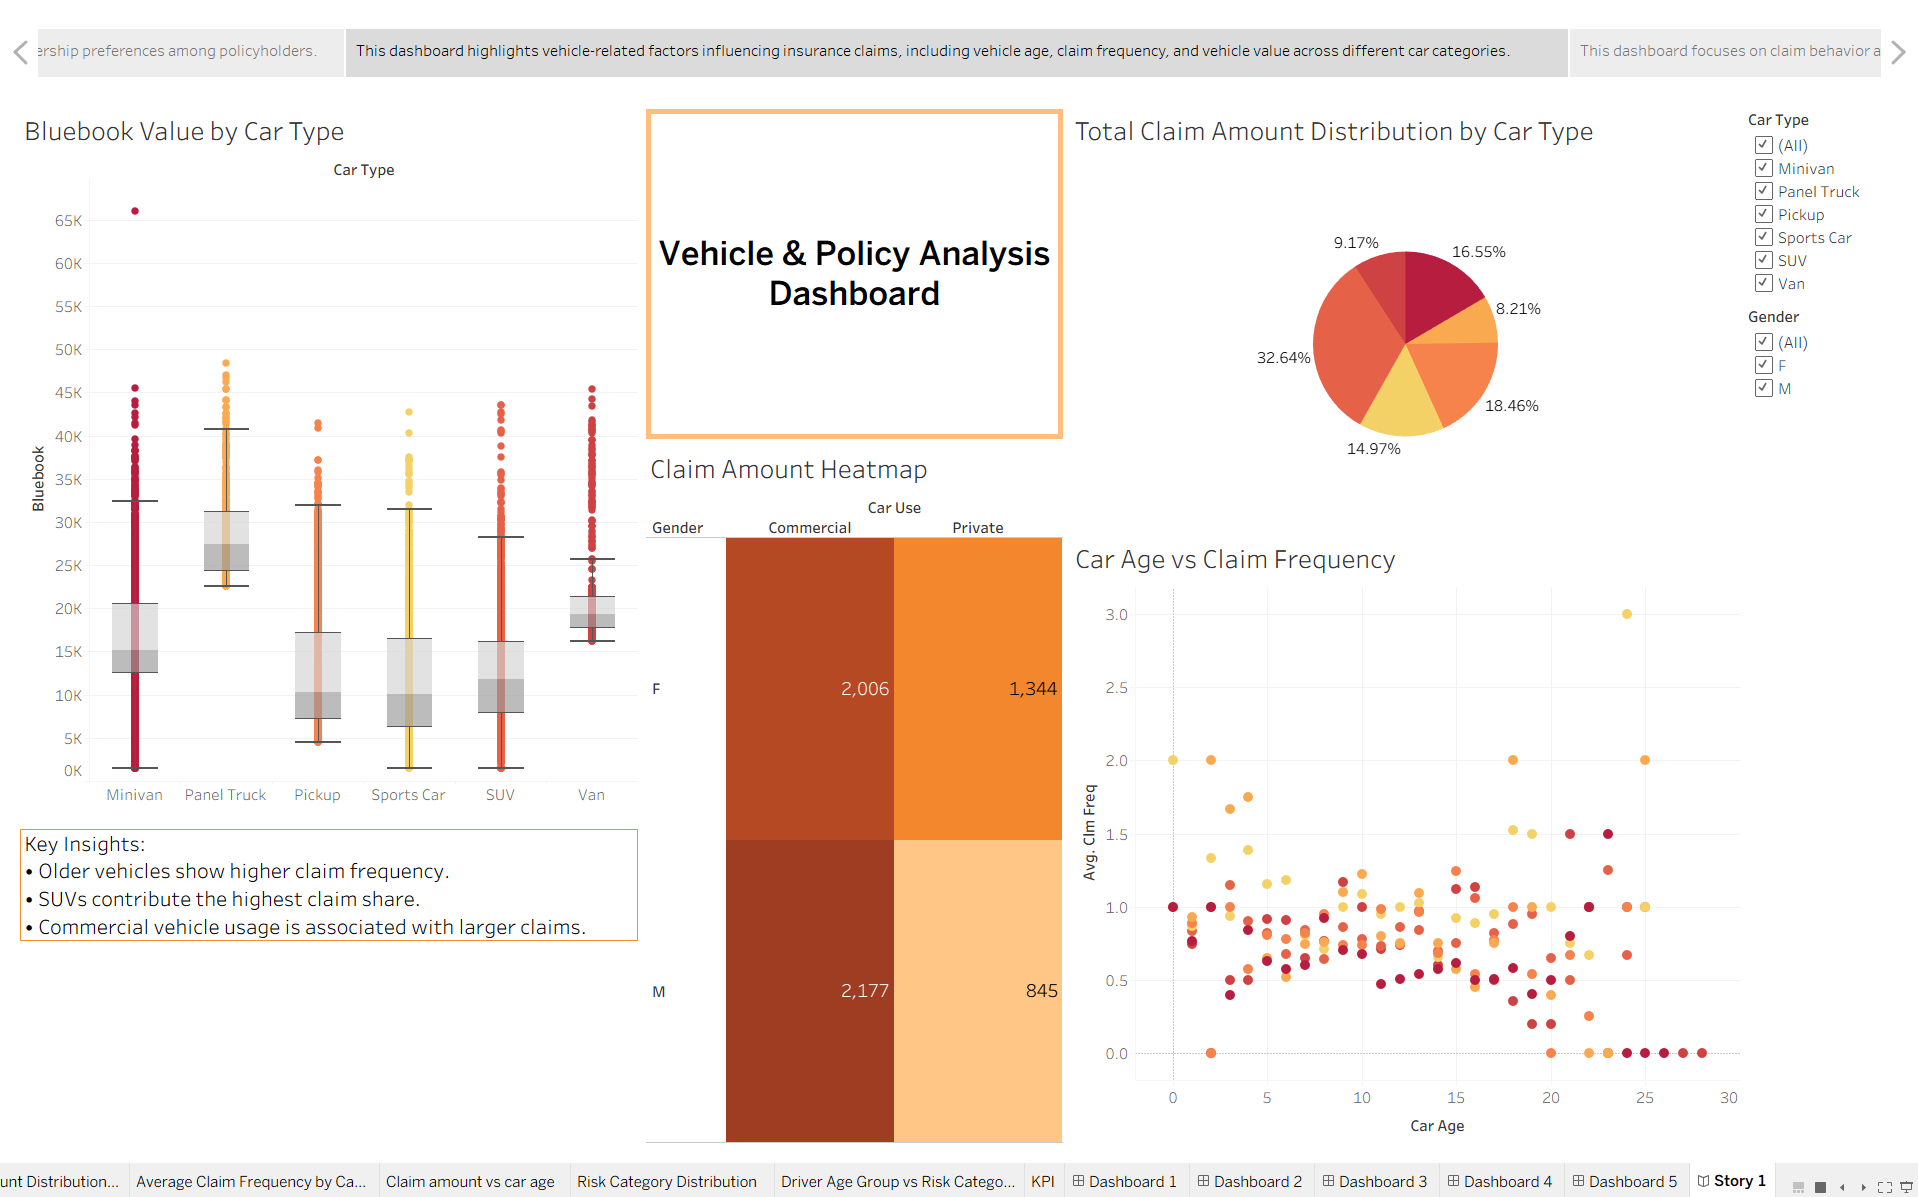

This screenshot's page, from the dashboard's own definition file:
{"tool":"tableau","page":{"name":"Dashboard 2","canvas":[1000,1000],"units":"permille","ordinal":1},"visuals":[{"type":"worksheet","title":"Bluebook Value by Car Type","mark":"Circle","rows":["BLUEBOOK"],"cols":["CAR_TYPE"],"box":[4.8,8.2,323.5,741.5]},{"type":"text","box":[328.3,8.2,219.8,348.1]},{"type":"worksheet","title":"Total Claim Amount Distribution by Car Type","mark":"Pie","box":[548.1,8.2,350.3,440.8]},{"type":"filter","title":"Bluebook Value by Car Type","param":"[federated.0exfdee0emvljr1a8v8o80k40b31].[none:CAR_TYPE:nk]","box":[898.4,8.2,96.7,202.9]},{"type":"filter","title":"Claim Amount Heatmap","param":"[federated.0exfdee0emvljr1a8v8o80k40b31].[none:GENDER:nk]","box":[898.4,211.1,96.7,108.1]},{"type":"worksheet","title":"Claim Amount Heatmap","mark":"Automatic","rows":["GENDER"],"cols":["CAR_USE"],"box":[328.3,356.3,219.8,635.4]},{"type":"worksheet","title":"Car Age vs Claim Frequency","mark":"Circle","rows":["CLM_FREQ"],"cols":["CAR_AGE"],"box":[548.1,449,350.3,542.7]},{"type":"text","box":[4.8,749.7,323.5,152.4]}]}

Visuals, with their boxes on the dashboard's canvas, which has no fixed pixel size, in thousandths of its width and height (x1, y1, x2, y2). These are canvas units, not pixel positions in the 1918x1197 screenshot, which may show the page scaled, cropped or inside an application window:
"Bluebook Value by Car Type" worksheet (Circle marks): 5:8:328:750
text: 328:8:548:356
"Total Claim Amount Distribution by Car Type" worksheet (Pie marks): 548:8:898:449
"Bluebook Value by Car Type" filter: 898:8:995:211
"Claim Amount Heatmap" filter: 898:211:995:319
"Claim Amount Heatmap" worksheet: 328:356:548:992
"Car Age vs Claim Frequency" worksheet (Circle marks): 548:449:898:992
text: 5:750:328:902
